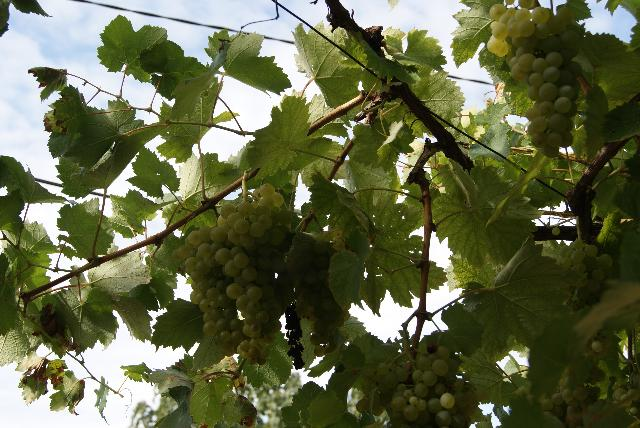grapes: (488, 6, 582, 159), (219, 192, 295, 360), (174, 226, 262, 356), (359, 346, 486, 428)
